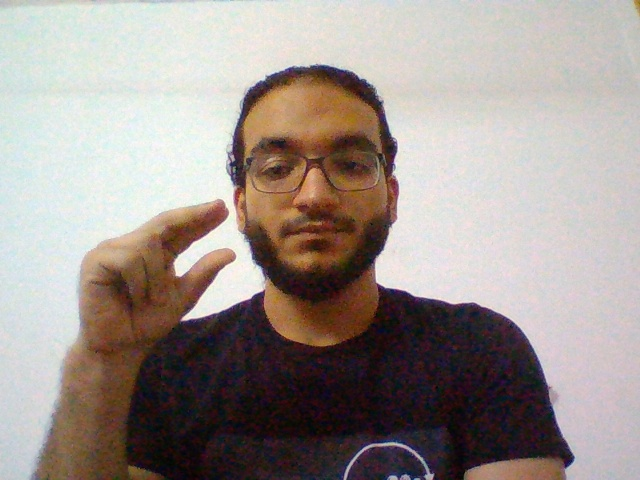No: (72, 192, 239, 354)
